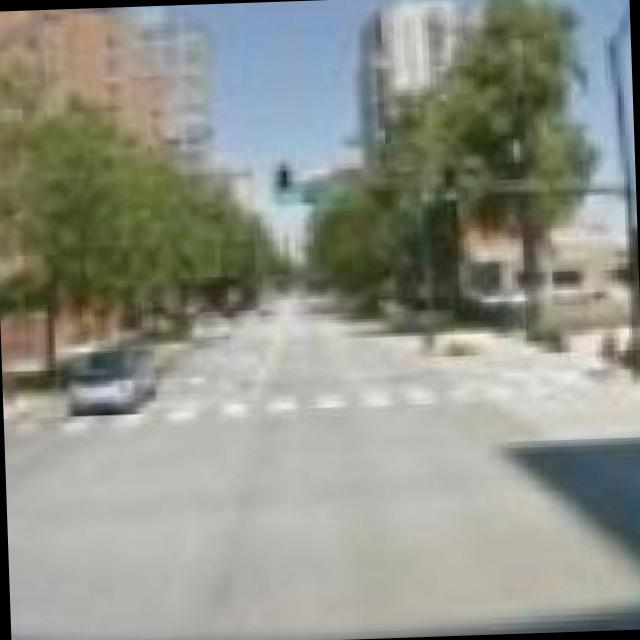zebra: (3, 337, 628, 431)
